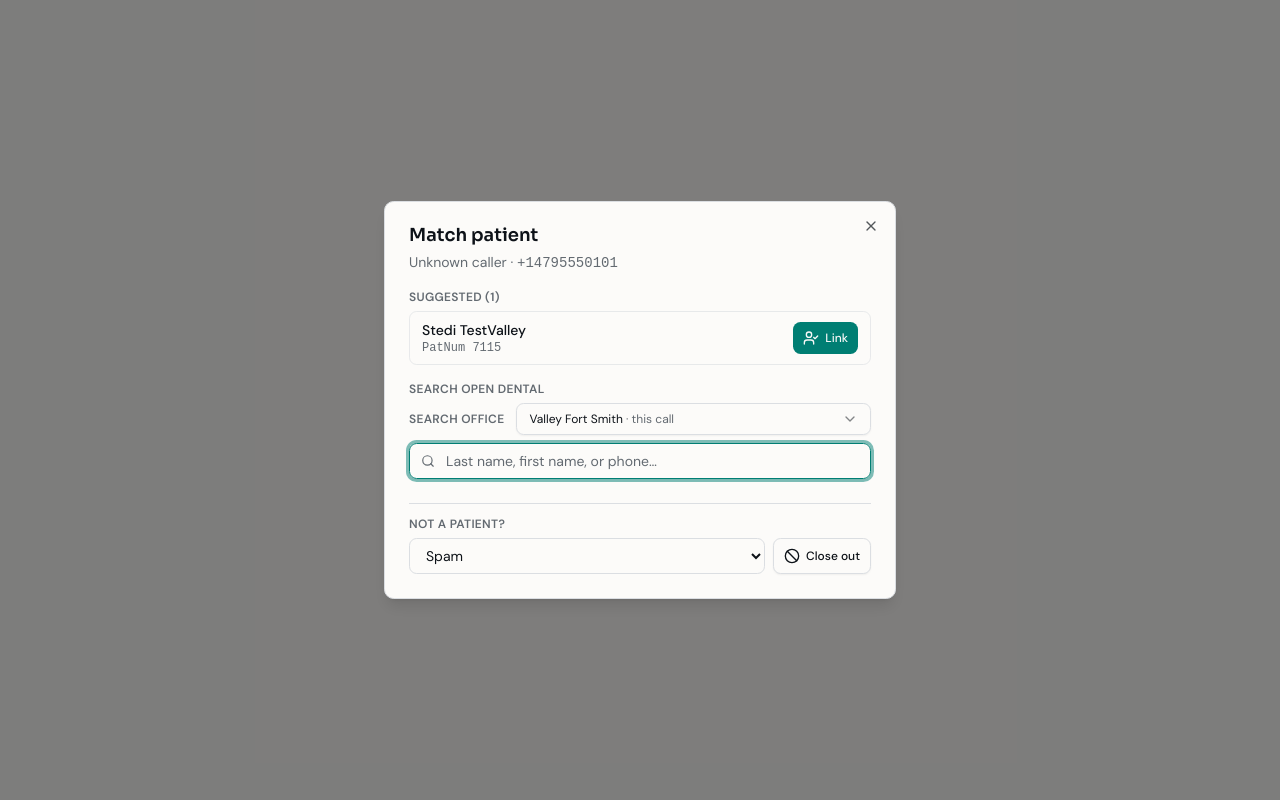
Test case: Pick Patient — searching the other practice › hides the stored suggestions once another practice is being searched
The width and height of the screenshot is (1280, 800).
Expected: the text "Stedi TestValley" is shown, [422, 320, 526, 340]
Press Enter in the dropdown with test id "search-office-select", box [516, 403, 871, 435]
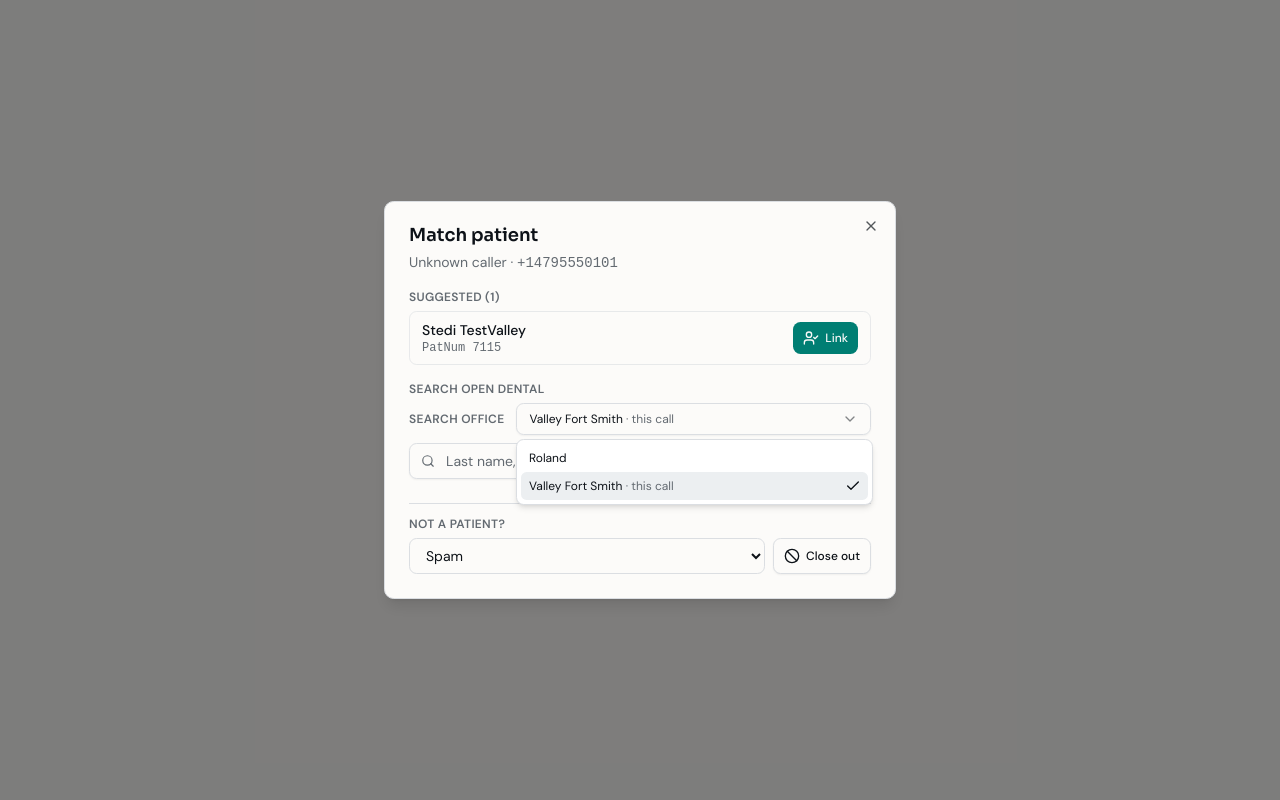
Click the option "Roland": (548, 458) [529, 450, 566, 466]
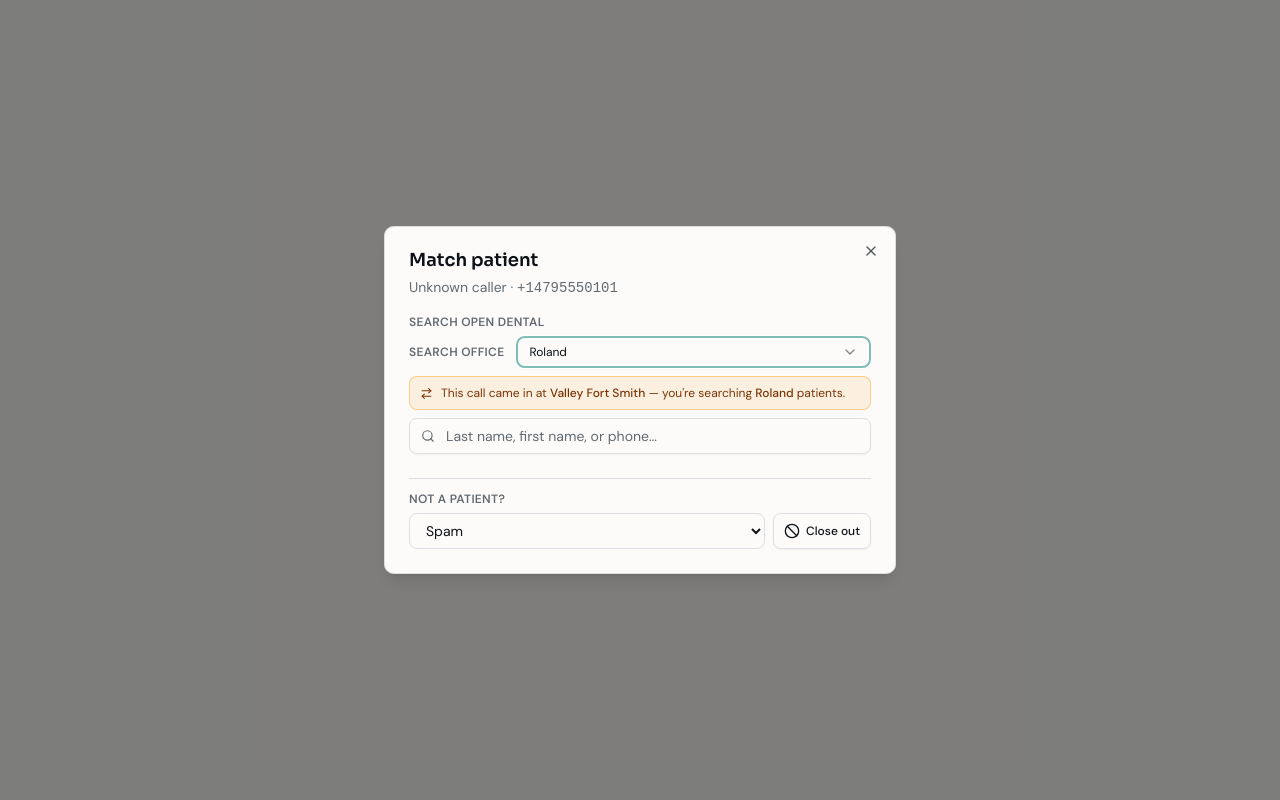
Now the text "Stedi TestValley" is gone
